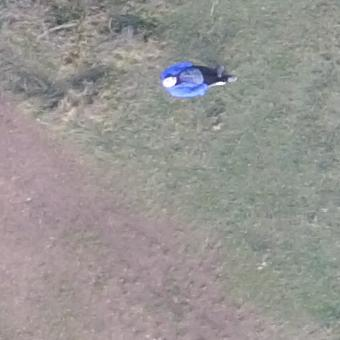human: (160, 56, 237, 98)
